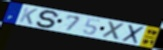5: (82, 17, 102, 35)
7: (65, 15, 82, 32)
K: (18, 6, 39, 26)
S: (35, 10, 61, 29)
X: (101, 20, 127, 42), (120, 24, 146, 45)
